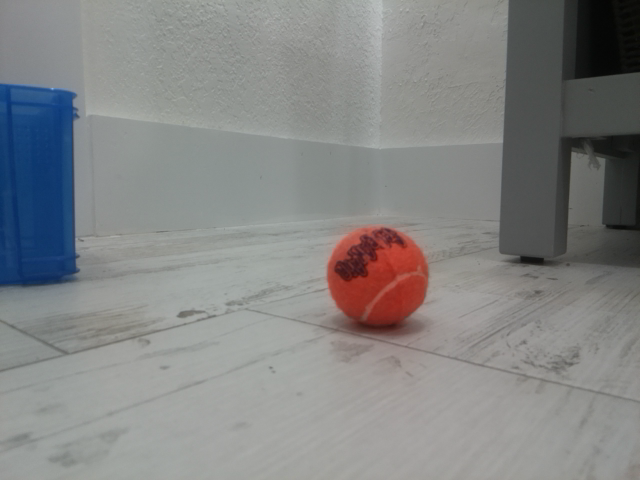orange-ball: (326, 224, 430, 332)
